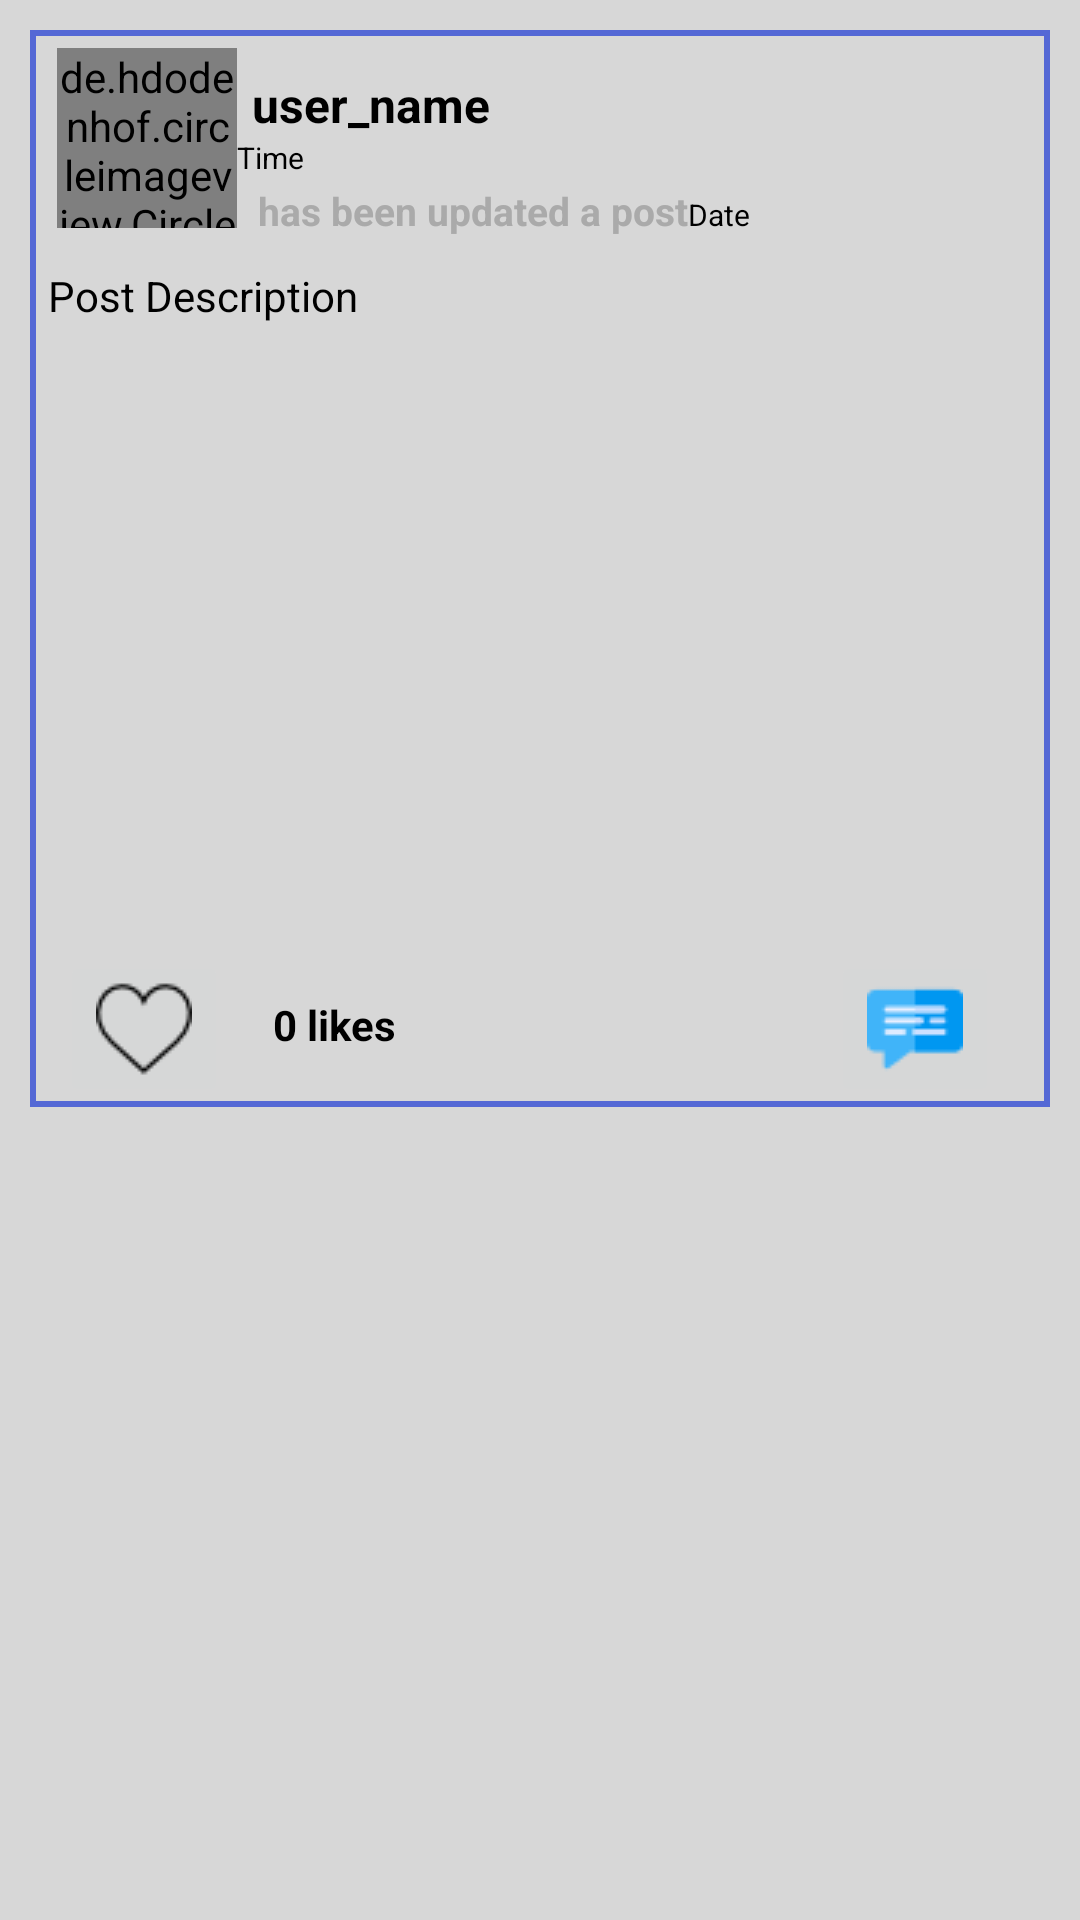

Where to tap for icons on this 1080*1920 app screen, as point (x, y):
comment: point (915, 1028)
